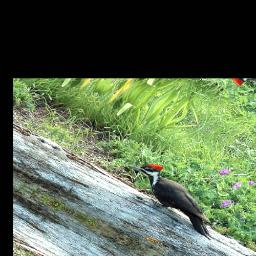Woodpecker: (110, 154, 242, 239)
